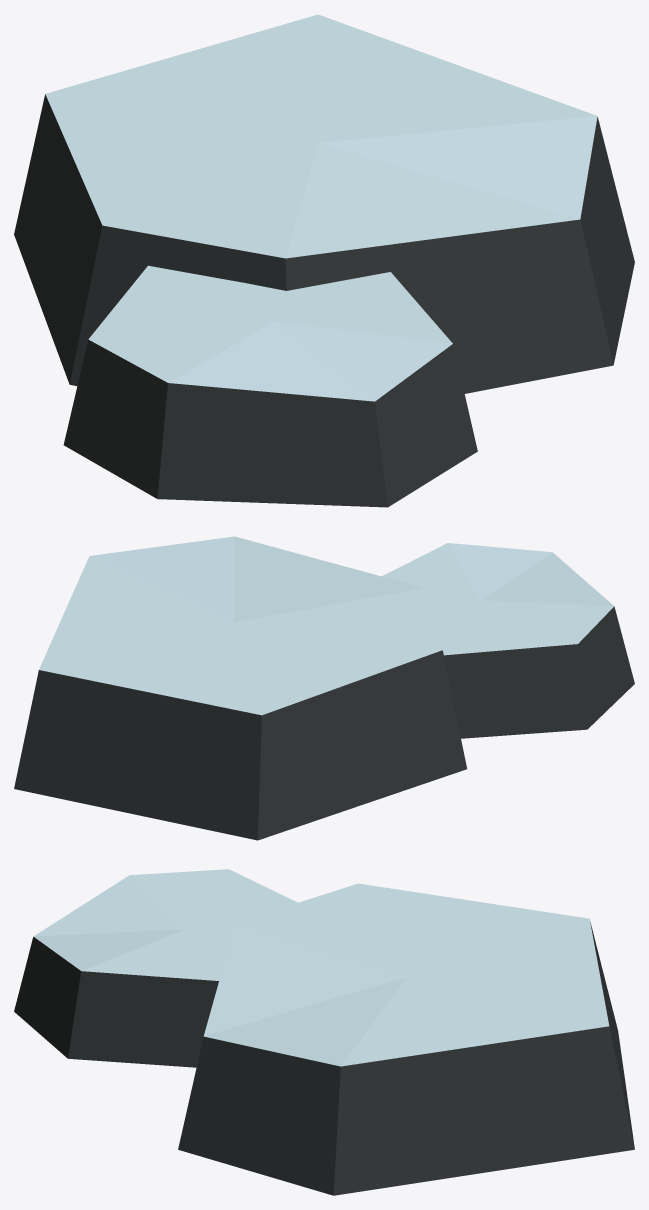
The model's file is SM_Env_Generic_Rock_03_Snow.fbx.
The picture shows the model from 3 angles, top to bottom: view 1: azimuth 30°, elevation 25°; view 2: azimuth 150°, elevation 25°; view 3: azimuth 270°, elevation 25°; orthographic projection. The views are drawn at different scales.
Parts seen in each view (by area): view 1: SM_Env_Generic_Rock_03_Snow; view 2: SM_Env_Generic_Rock_03_Snow; view 3: SM_Env_Generic_Rock_03_Snow.
Boxes of the visible parts, x1=… form: SM_Env_Generic_Rock_03_Snow: x1=14, y1=14, x2=634, y2=507; SM_Env_Generic_Rock_03_Snow: x1=14, y1=536, x2=634, y2=840; SM_Env_Generic_Rock_03_Snow: x1=14, y1=869, x2=634, y2=1195.
Size of the model in its own units: 72.62 by 16.58 by 79.7.
1 material, 1 textured.
